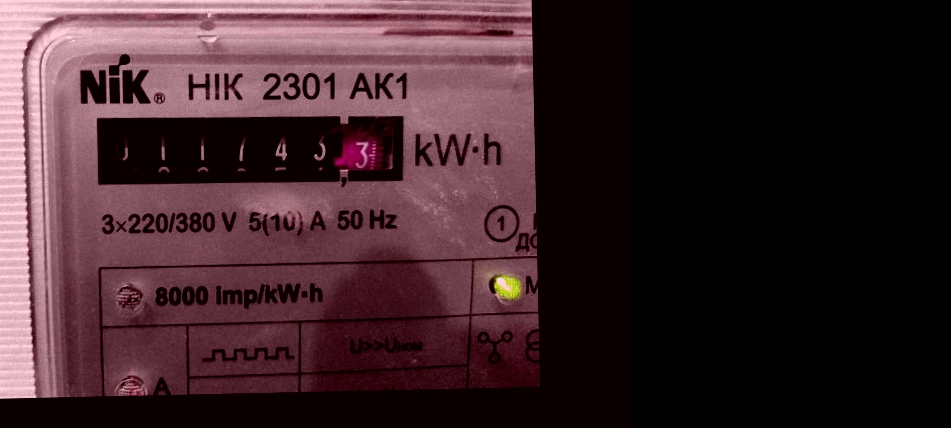0: (110, 127, 130, 164)
1: (193, 127, 209, 161), (156, 128, 167, 161)
3: (307, 127, 327, 163), (351, 138, 370, 172)
4: (270, 128, 288, 162)
7: (231, 128, 250, 162)
screen: (81, 98, 417, 199)
